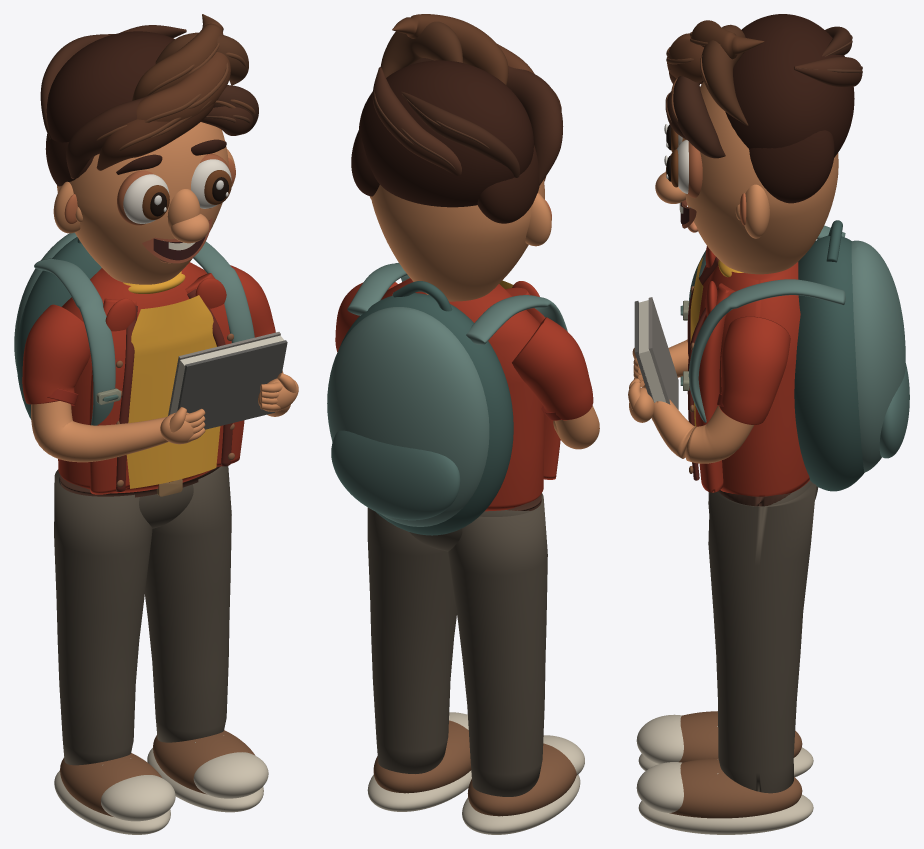
Rendered from bubu.glb.
3 views of the same model, side by side, from view 1: azimuth 30°, elevation 25°; view 2: azimuth 150°, elevation 25°; view 3: azimuth 270°, elevation 25° (orthographic). The views are drawn at different scales.
Visible parts, largest first — view 1: Student with backpack and book; view 2: Student with backpack and book; view 3: Student with backpack and book.
Boxes of the visible parts, x1,y1,x2,y2 form: Student with backpack and book: [14, 14, 298, 834]; Student with backpack and book: [327, 14, 599, 834]; Student with backpack and book: [628, 14, 909, 834].
Size of the model in its own units: 0.6545 by 1.94 by 0.621.
